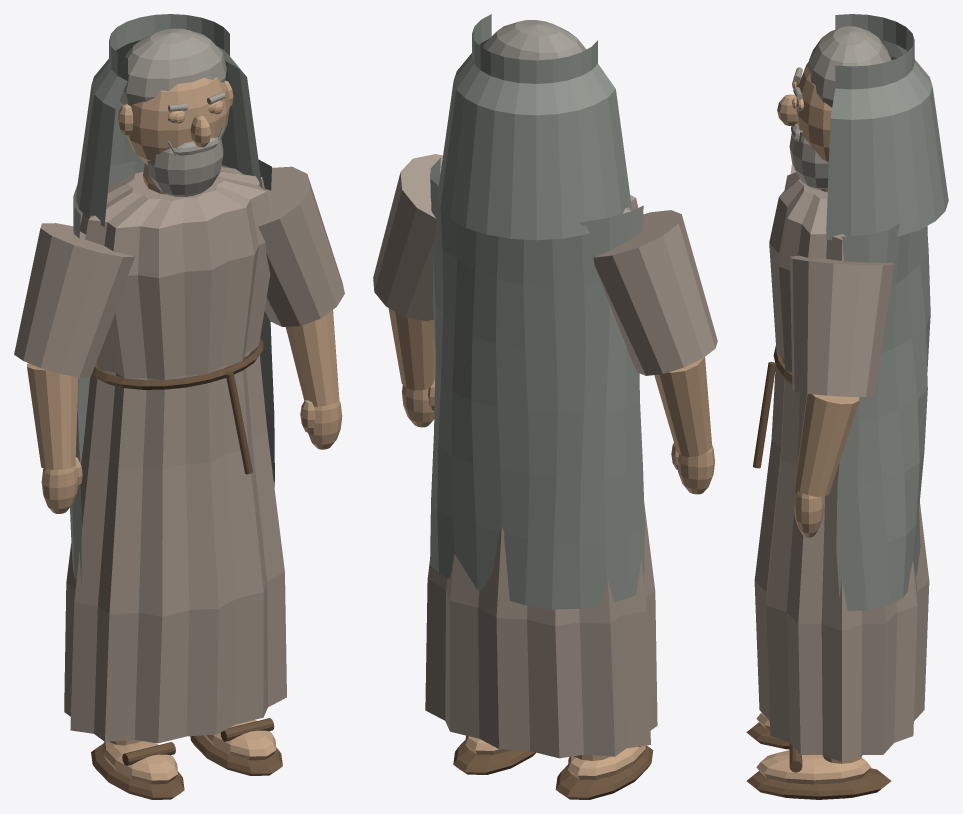
The model's file is listener-elder.glb.
The picture shows the model from 3 angles, left to right: view 1: azimuth 30°, elevation 25°; view 2: azimuth 150°, elevation 25°; view 3: azimuth 270°, elevation 25°; orthographic projection. The views are drawn at different scales.
Visible parts, largest first — view 1: listener-elder_torso_mesh, listener-elder_head_mesh, listener-elder_arm_left_mesh, listener-elder_arm_right_mesh, listener-elder_forearm_left_mesh, listener-elder_forearm_right_mesh, listener-elder_foot_left_mesh, listener-elder_foot_right_mesh, listener-elder_jaw_mesh; view 2: listener-elder_torso_mesh, listener-elder_head_mesh, listener-elder_arm_left_mesh, listener-elder_arm_right_mesh, listener-elder_forearm_left_mesh, listener-elder_forearm_right_mesh, listener-elder_foot_left_mesh, listener-elder_foot_right_mesh; view 3: listener-elder_torso_mesh, listener-elder_head_mesh, listener-elder_arm_right_mesh, listener-elder_forearm_right_mesh, listener-elder_foot_right_mesh, listener-elder_jaw_mesh, listener-elder_foot_left_mesh.
Boxes of the visible parts, x1,y1,x2,y2 form: listener-elder_torso_mesh: (64,159,286,743); listener-elder_head_mesh: (76,14,262,226); listener-elder_arm_left_mesh: (14,223,134,377); listener-elder_arm_right_mesh: (258,166,344,326); listener-elder_forearm_left_mesh: (27,363,82,513); listener-elder_forearm_right_mesh: (285,310,342,449); listener-elder_foot_left_mesh: (91,741,184,799); listener-elder_foot_right_mesh: (190,718,282,775); listener-elder_jaw_mesh: (147,137,223,196); listener-elder_torso_mesh: (425,158,657,758); listener-elder_head_mesh: (437,14,631,240); listener-elder_arm_left_mesh: (593,210,717,375); listener-elder_arm_right_mesh: (373,154,442,320); listener-elder_forearm_left_mesh: (654,357,714,494); listener-elder_forearm_right_mesh: (388,308,435,427); listener-elder_foot_left_mesh: (555,745,653,799); listener-elder_foot_right_mesh: (453,735,535,774); listener-elder_torso_mesh: (753,172,930,761); listener-elder_head_mesh: (777,14,948,240); listener-elder_arm_right_mesh: (790,255,893,396); listener-elder_forearm_right_mesh: (793,394,859,537); listener-elder_foot_right_mesh: (746,743,891,799); listener-elder_jaw_mesh: (789,128,828,189); listener-elder_foot_left_mesh: (746,712,789,749).
Bounding box in the file's own units: 0.8119 × 1.76 × 0.44.
